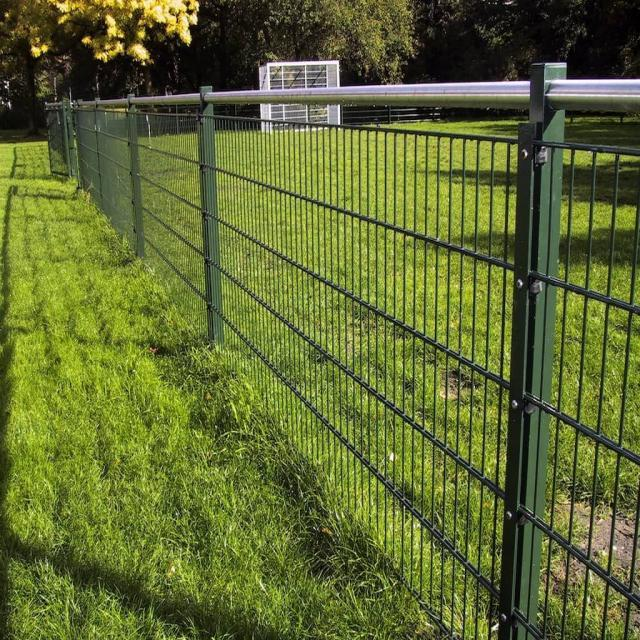fence line: (220, 119, 520, 640), (453, 149, 640, 640), (52, 98, 233, 370)
